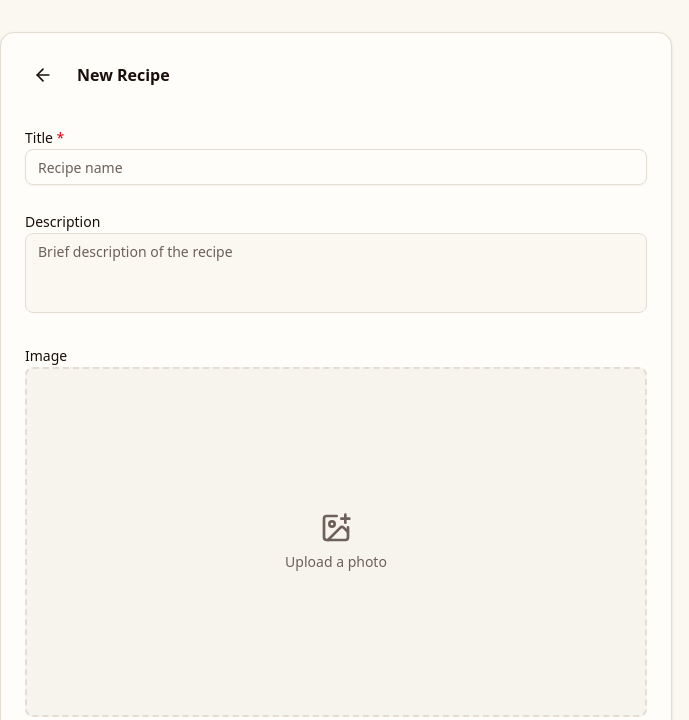
it: RecipeForm - Create Mode › enables submit when title is provided
Type "My New Recipe" into the field labelled "Title *". click: (336, 167)
box: [25,149,647,185]
(page scrolled)
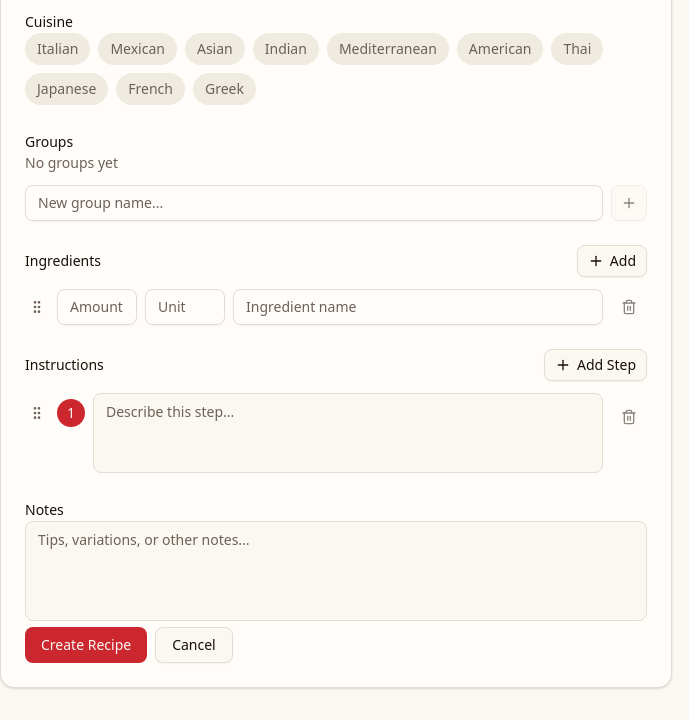
Result: the button "Create Recipe" is enabled at [25,627,147,663]
